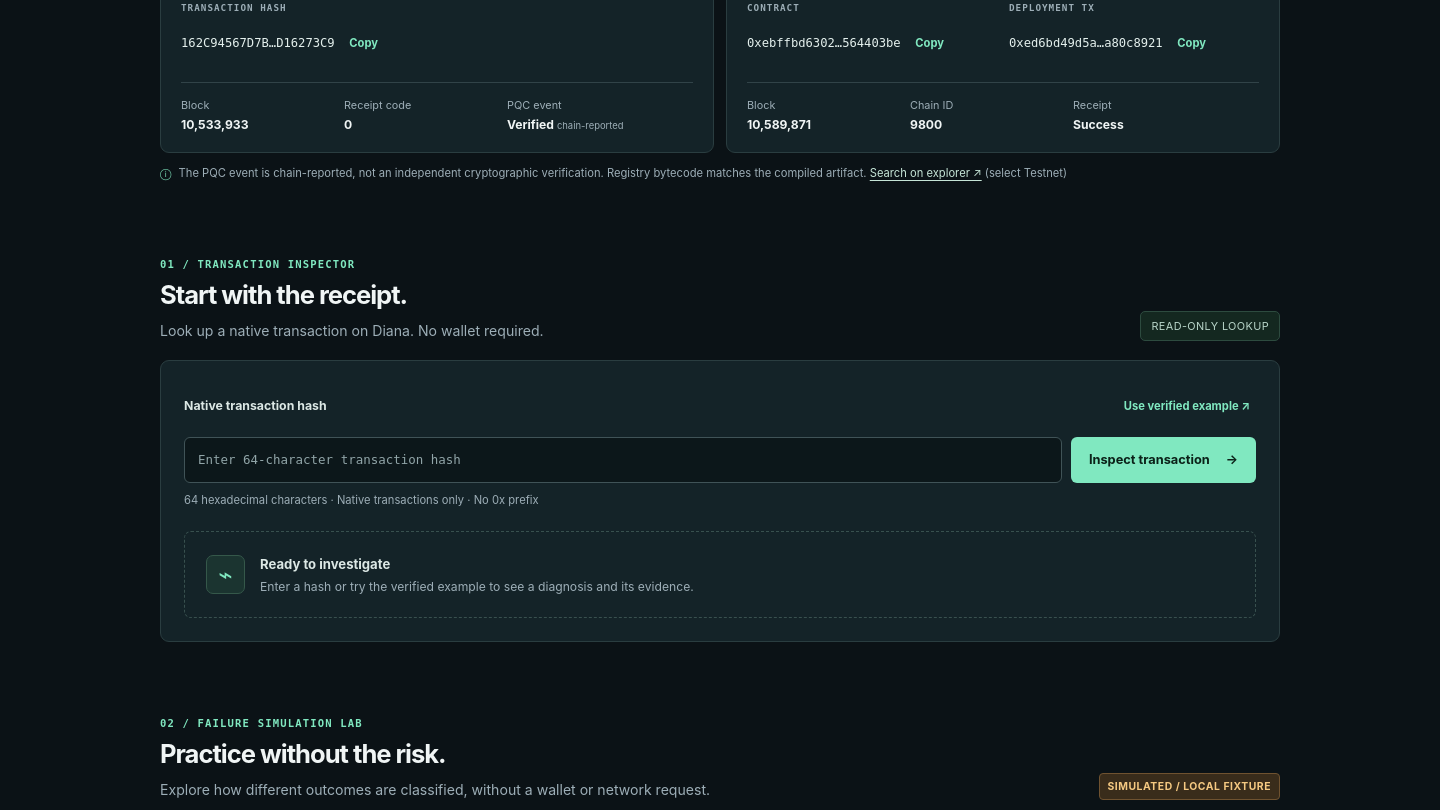
Test: transaction workspace › shows a retry after a failed lookup and succeeds on retry
The width and height of the screenshot is (1440, 810).
(page scrolled)
Click the button "Use verified example ↗": (1187, 406) [1118, 384, 1256, 428]
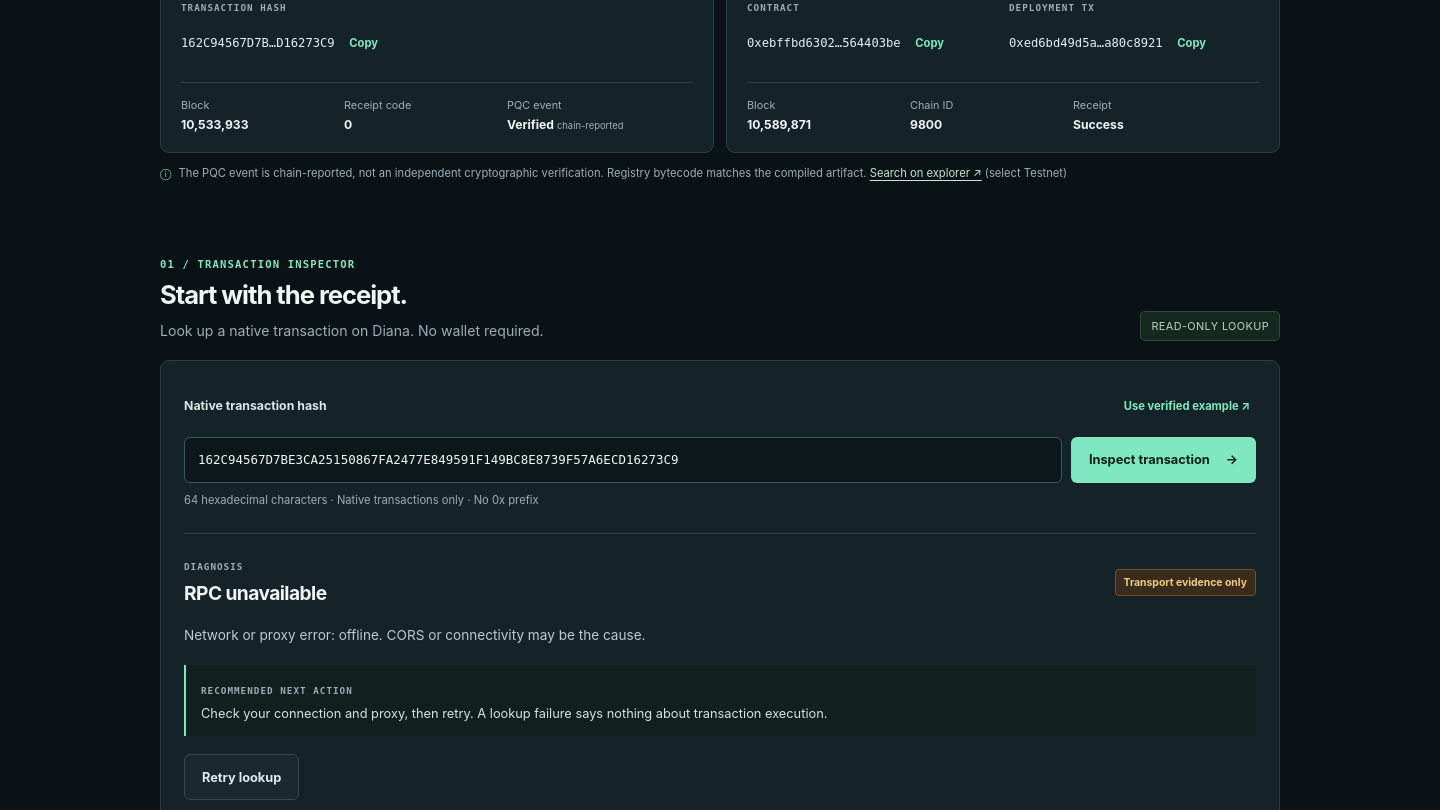
expect the heading "RPC unavailable" is shown: met, box [184, 581, 327, 605]
Click the button "Retry lookup": (242, 777) [184, 754, 299, 800]
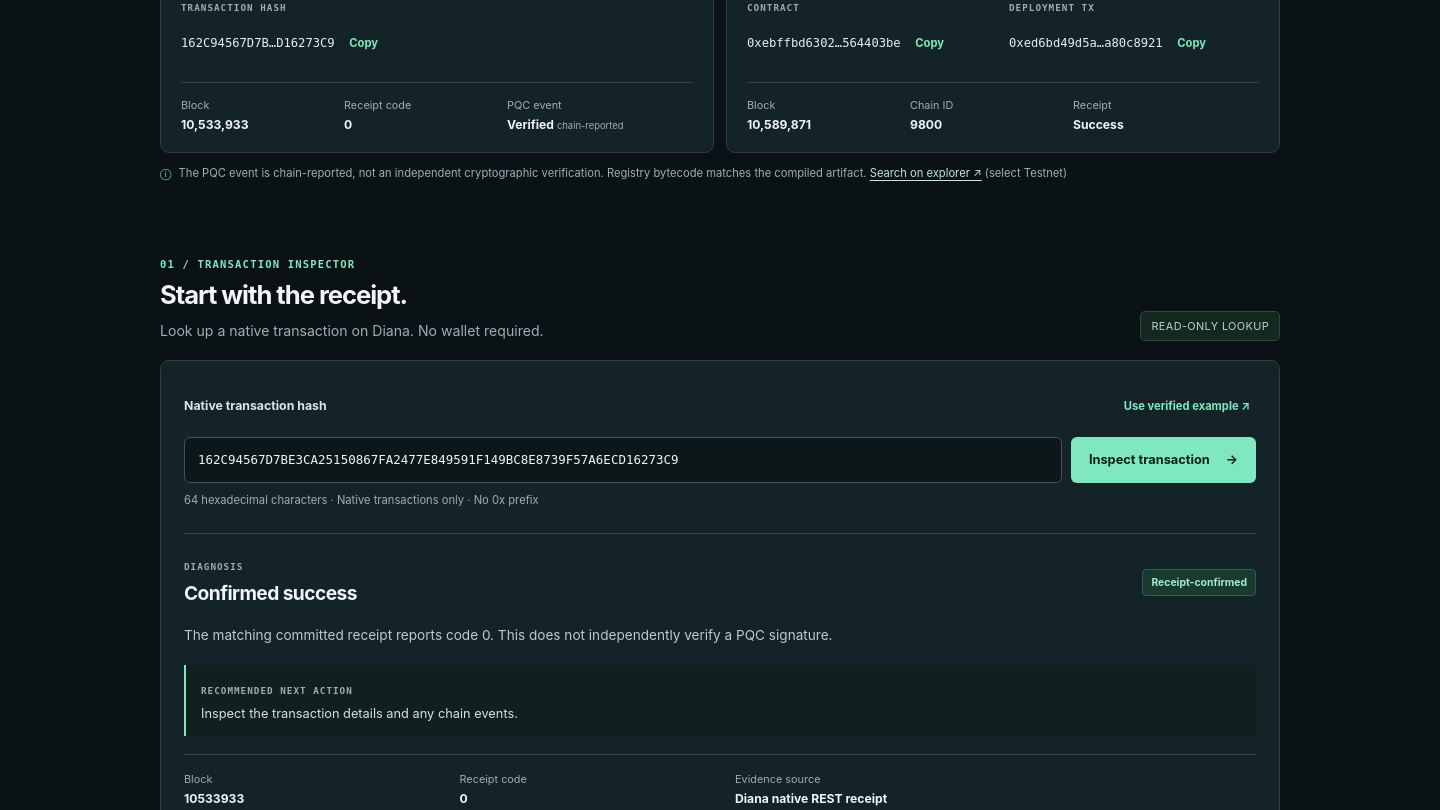
expect the heading "Confirmed success" is shown: met, box [184, 581, 357, 605]
